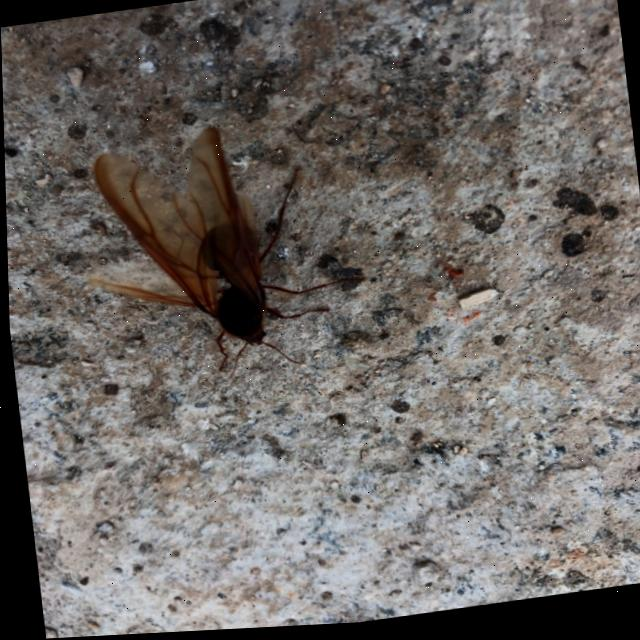Alive-Male-Alate: (67, 111, 375, 401)
